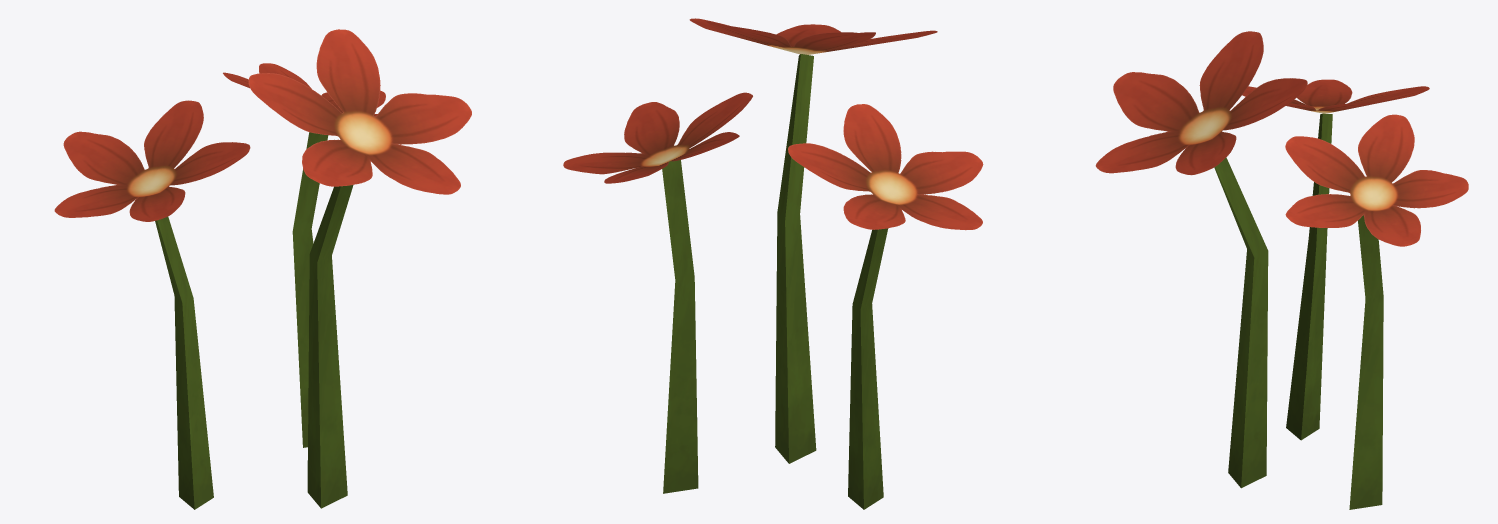
Rendered from flower3.fbx.
3 views of the same model, side by side, from view 1: azimuth 30°, elevation 25°; view 2: azimuth 150°, elevation 25°; view 3: azimuth 270°, elevation 25° (orthographic). The views are drawn at different scales.
Visible parts, largest first — view 1: polySurface2269; view 2: polySurface2269; view 3: polySurface2269.
Part boxes in pixels (<box>): polySurface2269: <box>54,29,471,509</box>; polySurface2269: <box>563,18,983,509</box>; polySurface2269: <box>1095,31,1468,509</box>.
Size of the model in its own units: 0.5553 by 0.5746 by 0.5248.
